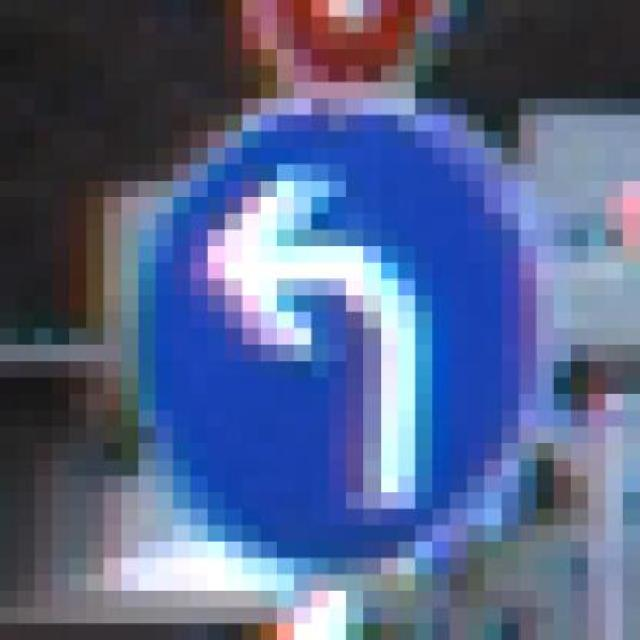Turn left ahead: (121, 99, 553, 558)
